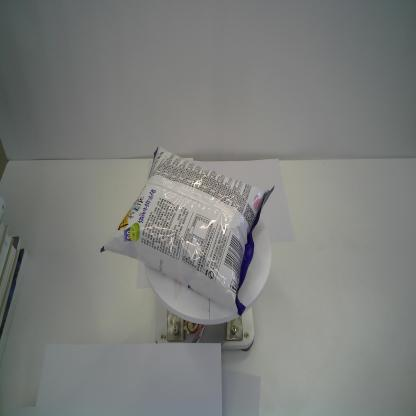Puffed Food: (99, 146, 276, 317)
